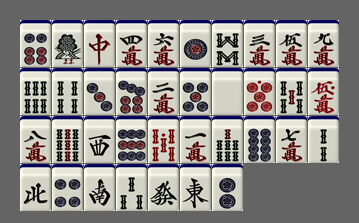0m: (308, 68, 339, 115)
0p: (244, 68, 275, 115)
0s: (148, 116, 179, 163)
1m: (180, 116, 211, 163)
1p: (180, 20, 211, 67)
1s: (52, 20, 83, 67)
1z: (180, 164, 211, 211)
2m: (148, 68, 179, 115)
2p: (212, 164, 243, 211)
2s: (308, 116, 339, 163)
2z: (84, 164, 115, 211)
3m: (244, 20, 275, 67)
3p: (84, 68, 115, 115)
3s: (116, 164, 147, 211)
3z: (84, 116, 115, 163)
4m: (116, 20, 147, 67)
4p: (52, 164, 83, 211)
4s: (52, 68, 83, 115)
4z: (20, 164, 51, 211)
5m: (276, 20, 307, 67)
5p: (180, 68, 211, 115)
5s: (276, 68, 307, 115)
5z: (212, 68, 243, 115)
6m: (148, 20, 179, 67)
6p: (20, 20, 51, 67)
6s: (20, 68, 51, 115)
6z: (148, 164, 179, 211)
7m: (276, 116, 307, 163)
7p: (116, 68, 147, 115)
7s: (212, 116, 243, 163)
7z: (84, 20, 115, 67)
8m: (20, 116, 51, 163)
8p: (244, 116, 275, 163)
8s: (212, 20, 243, 67)
9m: (308, 20, 339, 67)
9p: (116, 116, 147, 163)
9s: (52, 116, 83, 163)
